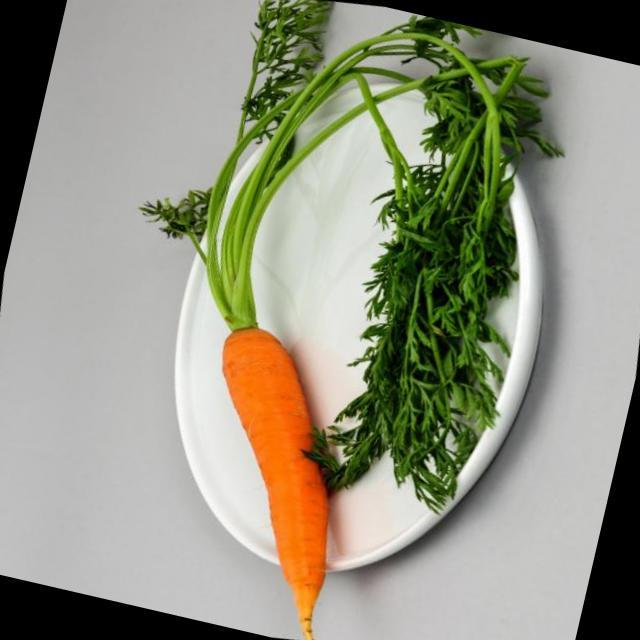carrot: (109, 42, 443, 640)
